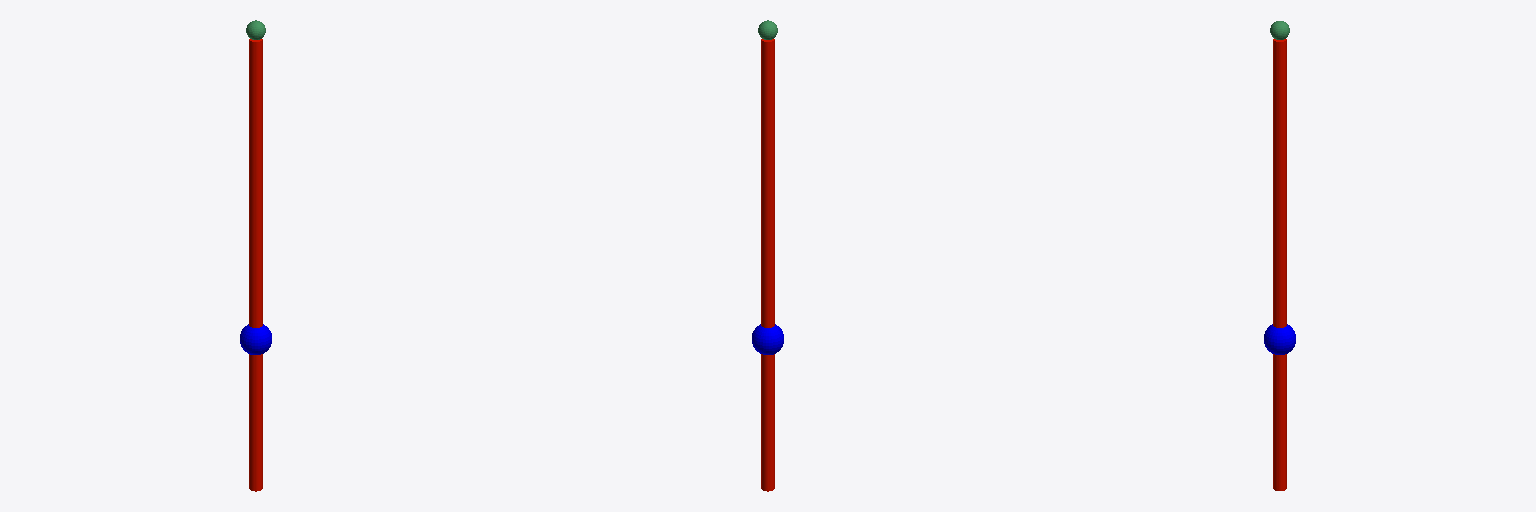
robot.urdf — Pendulum:
<?xml version="1.0"?>
<robot name="Pendulum">
  <material name="green">
    <color rgba=".3 .6 .4 1"/>
  </material>
  <material name="red">
    <color rgba=".9 .1 0 1"/>
  </material>
  <material name="blue">
    <color rgba="0 0 1 1"/>
  </material>
  <link drake_ignore="true" name="world">
    <inertial>
      <!-- drc-viewer needs this to have inertia to parse properly. Remove it when that bug is fixed. -->
      <origin xyz="0 0 0"/>
      <mass value="0.01"/>
      <inertia ixx="0.01" ixy="0" ixz="0" iyy="0" iyz="0" izz="0"/>
    </inertial>
  </link>
  <link name="base_part2">
    <inertial>
      <origin rpy="0 0 0" xyz="0 0 .015"/>
      <mass value="1"/>
      <inertia ixx="0" ixy="0" ixz="0" iyy="0" iyz="0" izz="0"/>
    </inertial>
    <visual>
      <origin xyz="0 0 .015"/>
      <geometry>
        <sphere radius=".015"/>
      </geometry>
      <material name="green"/>
    </visual>
  </link>
  <joint drake_ignore="true" name="base_weld" type="fixed">
    <parent link="world"/>
    <child link="base_part2"/>
    <origin xyz="0 0 1"/>
  </joint>
  <link name="arm">
    <inertial>
      <origin rpy="0 0 0" xyz="0 0 -.5"/>
      <mass value="0.5"/>
      <inertia ixx="0" ixy="0" ixz="0" iyy="0" iyz="0" izz="0"/>
    </inertial>
    <visual>
      <origin rpy="0 0 0" xyz="0 0 -.375"/>
      <geometry>
        <cylinder length=".75" radius=".01"/>
      </geometry>
      <material name="red"/>
    </visual>
    <collision>
      <origin rpy="0 0 0" xyz="0 0 -.375"/>
      <geometry>
        <cylinder length=".75" radius=".01"/>
      </geometry>
    </collision>
  </link>
  <joint name="theta" type="continuous">
    <parent link="base_part2"/>
    <child link="arm"/>
    <axis xyz="0 1 0"/>
    <dynamics damping="0.5" friction="20"/>
  </joint>
  <link name="arm_com">
    <inertial>
      <origin rpy="0 0 0" xyz="0 0 -0.5"/>
      <mass value="0.5"/>
      <inertia ixx="0" ixy="0" ixz="0" iyy="0" iyz="0" izz="0"/>
    </inertial>
    <visual>
      <origin xyz="0 0 -.5"/>
      <geometry>
        <sphere radius=".025"/>
      </geometry>
      <material name="blue"/>
    </visual>
    <collision>
      <origin xyz="0 0 -.5"/>
      <geometry>
        <sphere radius=".025"/>
      </geometry>
    </collision>
  </link>
  <joint name="arm_weld" type="fixed">
    <parent link="arm"/>
    <child link="arm_com"/>
  </joint>
  <transmission name="elbow_trans" type="SimpleTransmission">
    <actuator name="tau"/>
    <joint name="theta"/>
    <mechanicalReduction>1</mechanicalReduction>
  </transmission>
</robot>

--- Facts derived from the render (not from the file) ---
The picture shows the robot from 3 angles, left to right: view 1: azimuth 30°, elevation 25°; view 2: azimuth 150°, elevation 25°; view 3: azimuth 270°, elevation 25°; orthographic projection.
Model Pendulum with 4 links and 3 joints (1 continuous, 2 fixed), rooted at world, posed all joints at 0.
Visible links, largest first — view 1: arm, arm_com; view 2: arm, arm_com; view 3: arm, arm_com.
Link boxes in pixels (bbox=[...]): arm: bbox=[249, 39, 262, 491]; arm_com: bbox=[240, 324, 271, 354]; arm: bbox=[761, 39, 774, 491]; arm_com: bbox=[752, 324, 783, 354]; arm: bbox=[1273, 39, 1286, 490]; arm_com: bbox=[1264, 324, 1295, 354].
Bounding box of the posed robot: 0.05 × 0.05 × 0.78 m (x, y, z).
Geometry: primitives only (box / cylinder / sphere), no mesh files.
